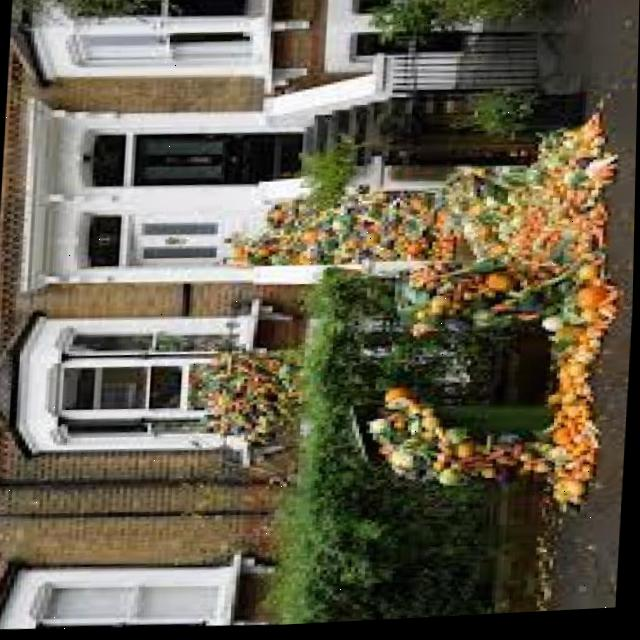Wet: (458, 181, 605, 341), (364, 195, 602, 276), (199, 364, 294, 443)
